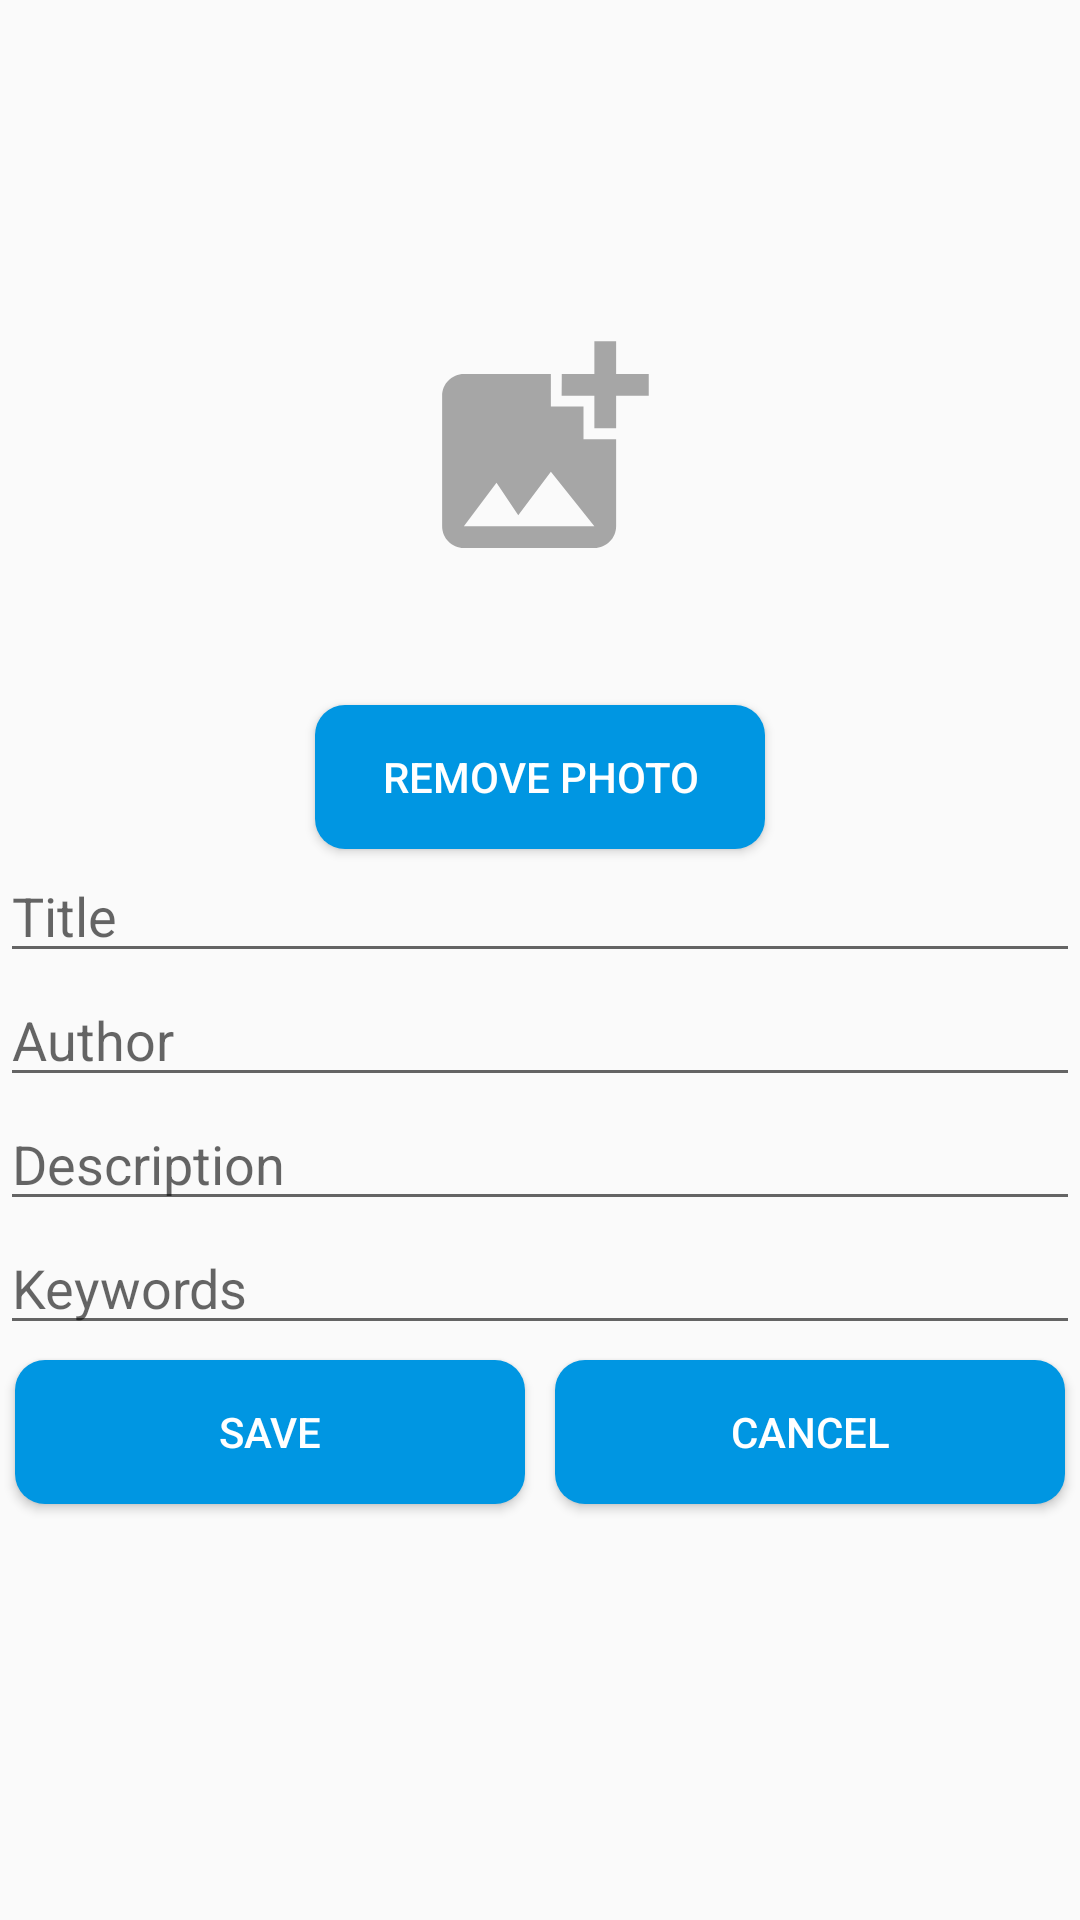

Screen size 1080px×1920px. Icon name, then its box in pixels as (x1, y1, x2, y2):
addbook add photo: (442, 341, 649, 548)
